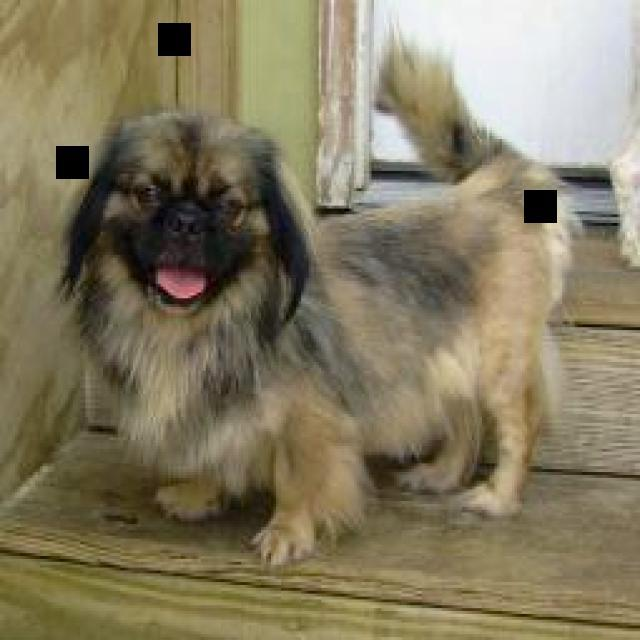adult_dog: (62, 27, 579, 568)
